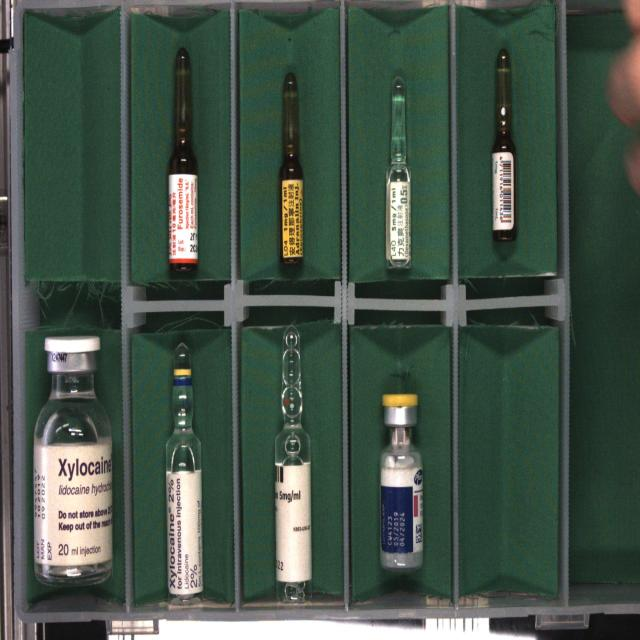Vials: (34, 335, 113, 586), (380, 394, 423, 571)
